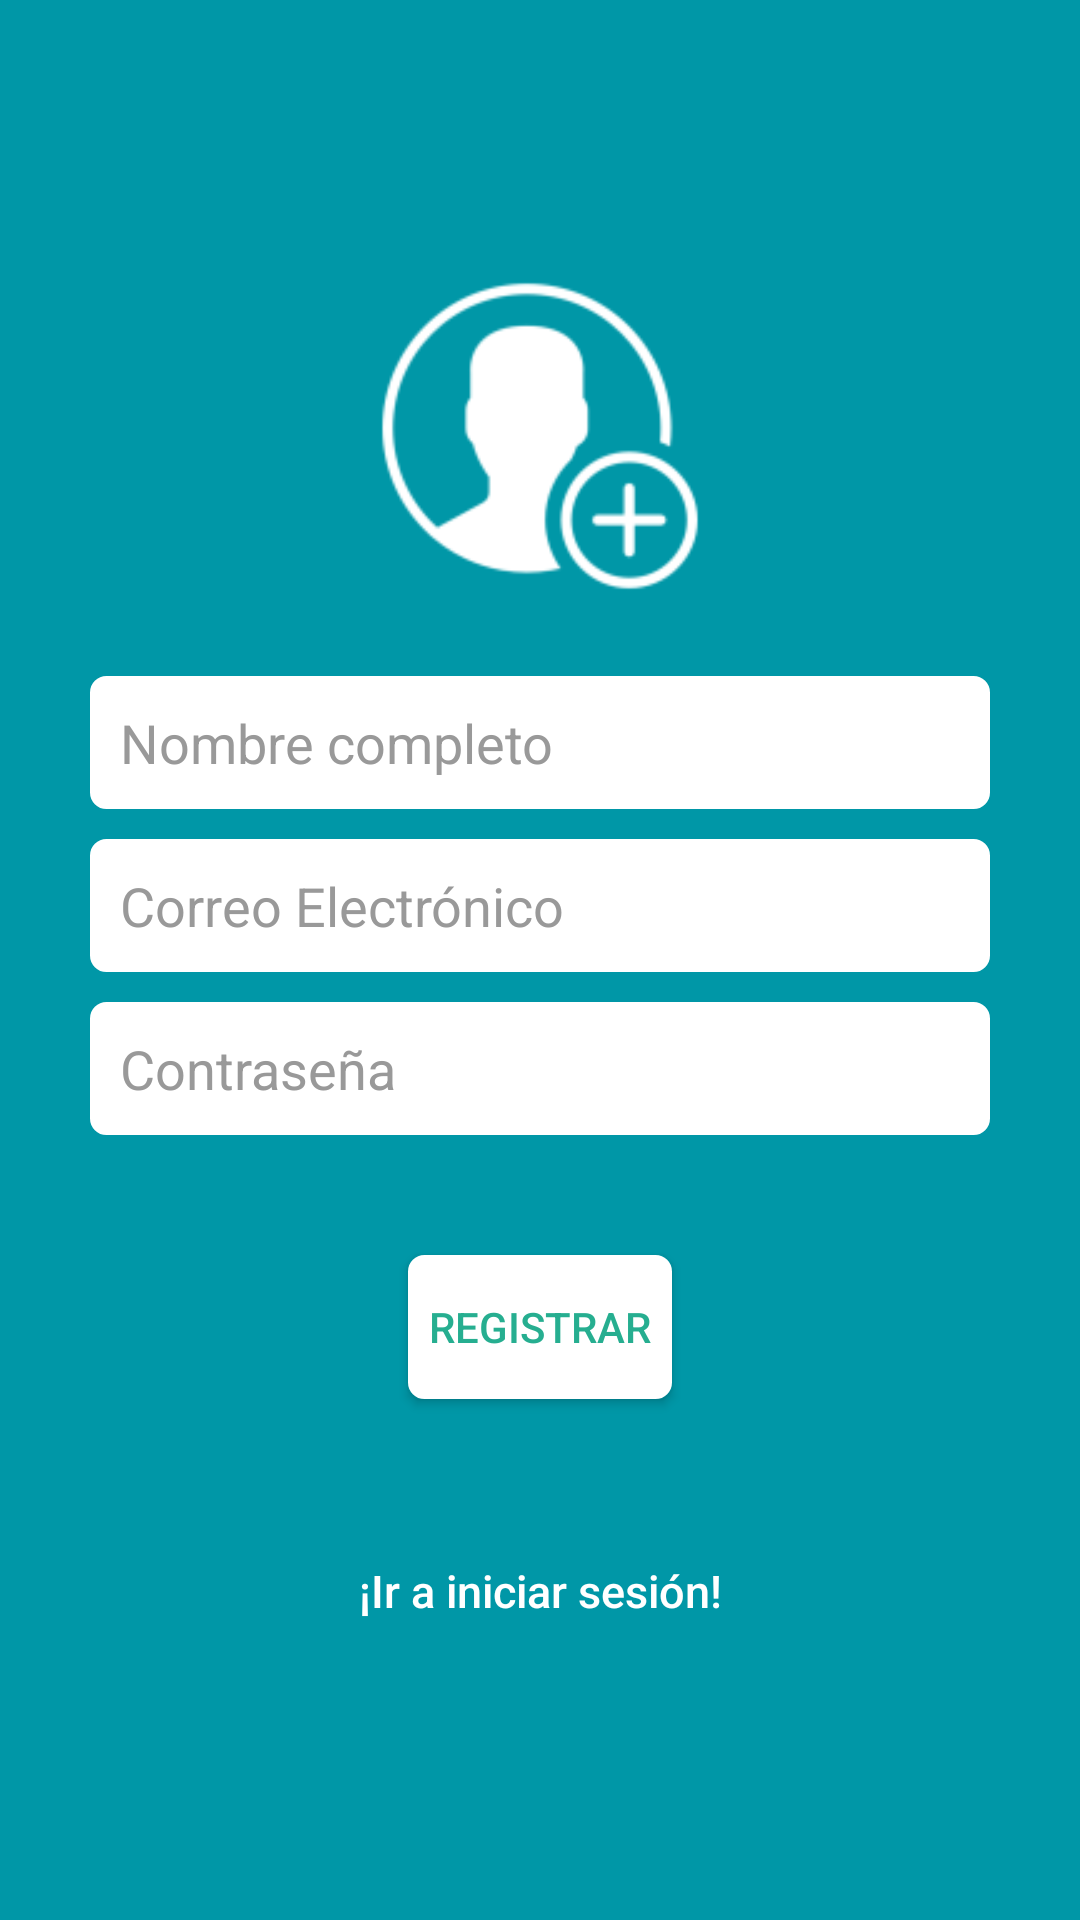

Named icons in this screenshot (1080px×1920px) and their bounding boxes, BBox(x1, y1, x2, y2):
plus: BBox(381, 282, 699, 590)
